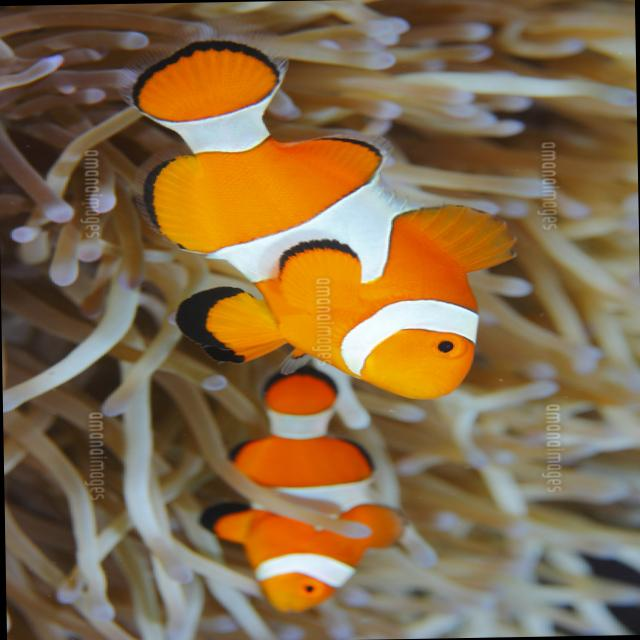ClownFish: (128, 35, 517, 406), (197, 377, 401, 616)
